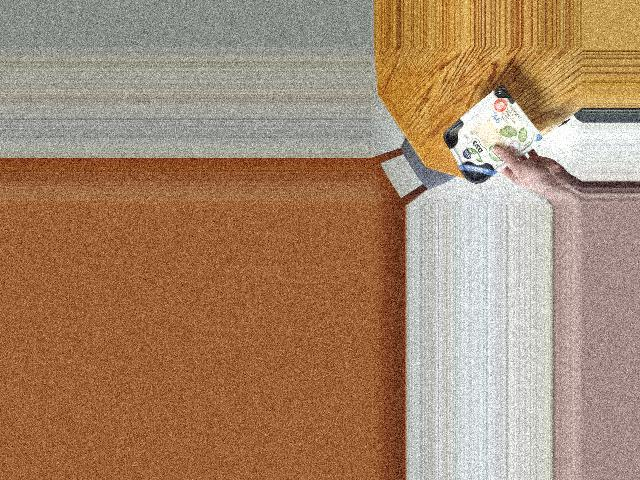cheese: (443, 93, 527, 186)
